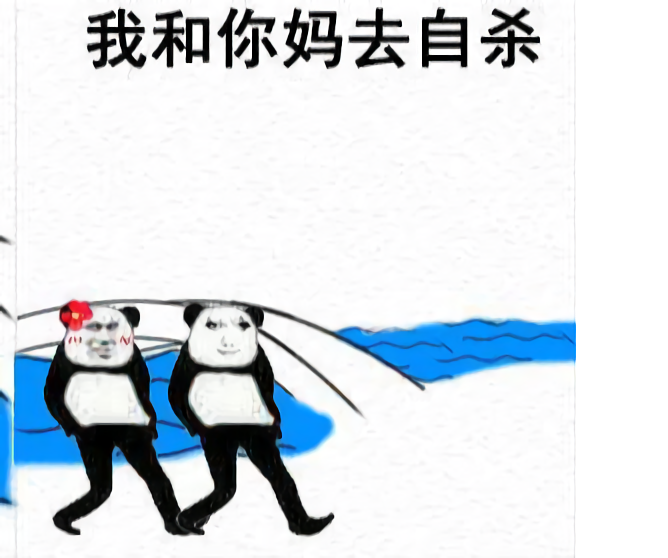dragon: (200, 317, 253, 358)
